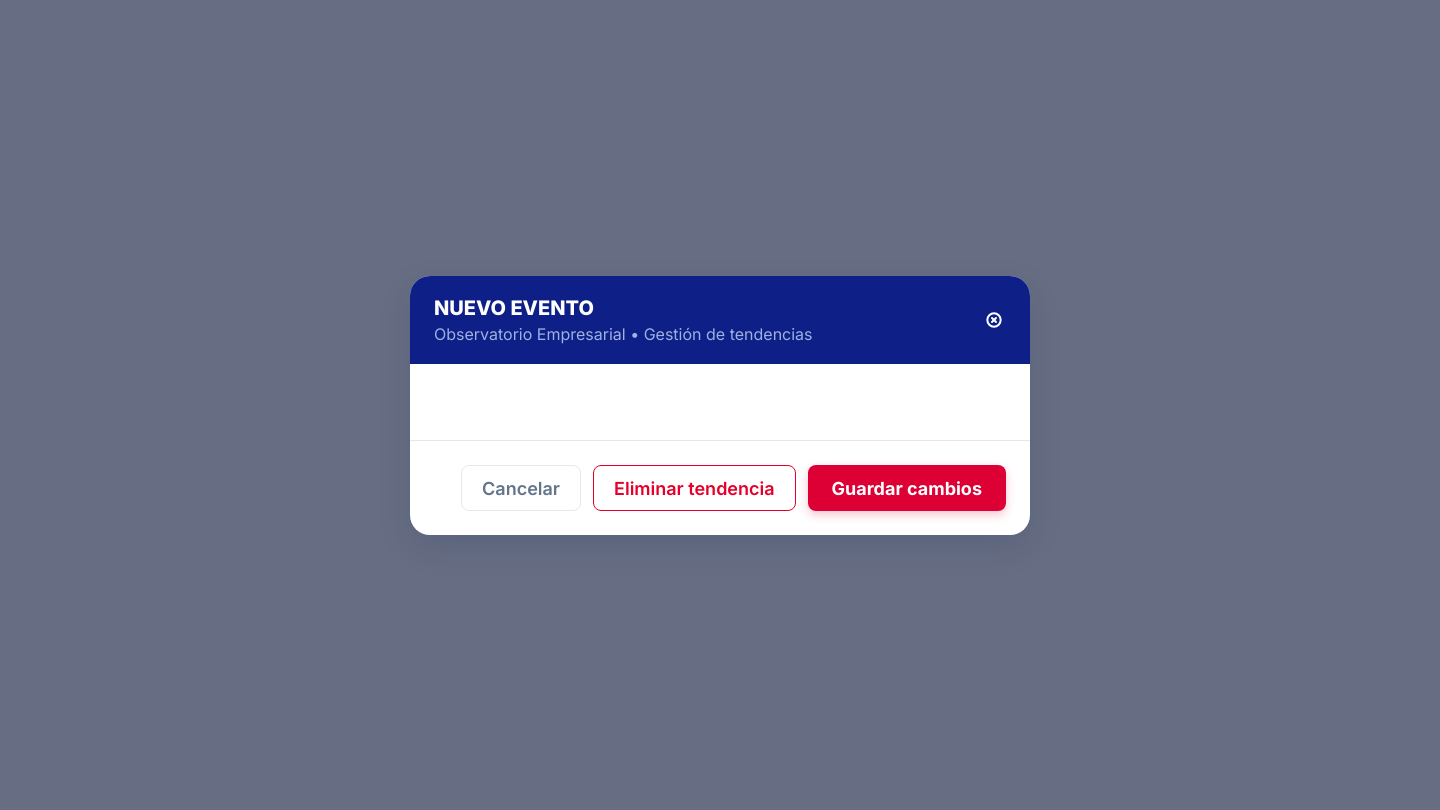
Test: FormularioCrud › elimina con confirmación
This screenshot has width=1440, height=810.
Click the button "Eliminar tendencia" at (694, 488), box [593,464,796,510]
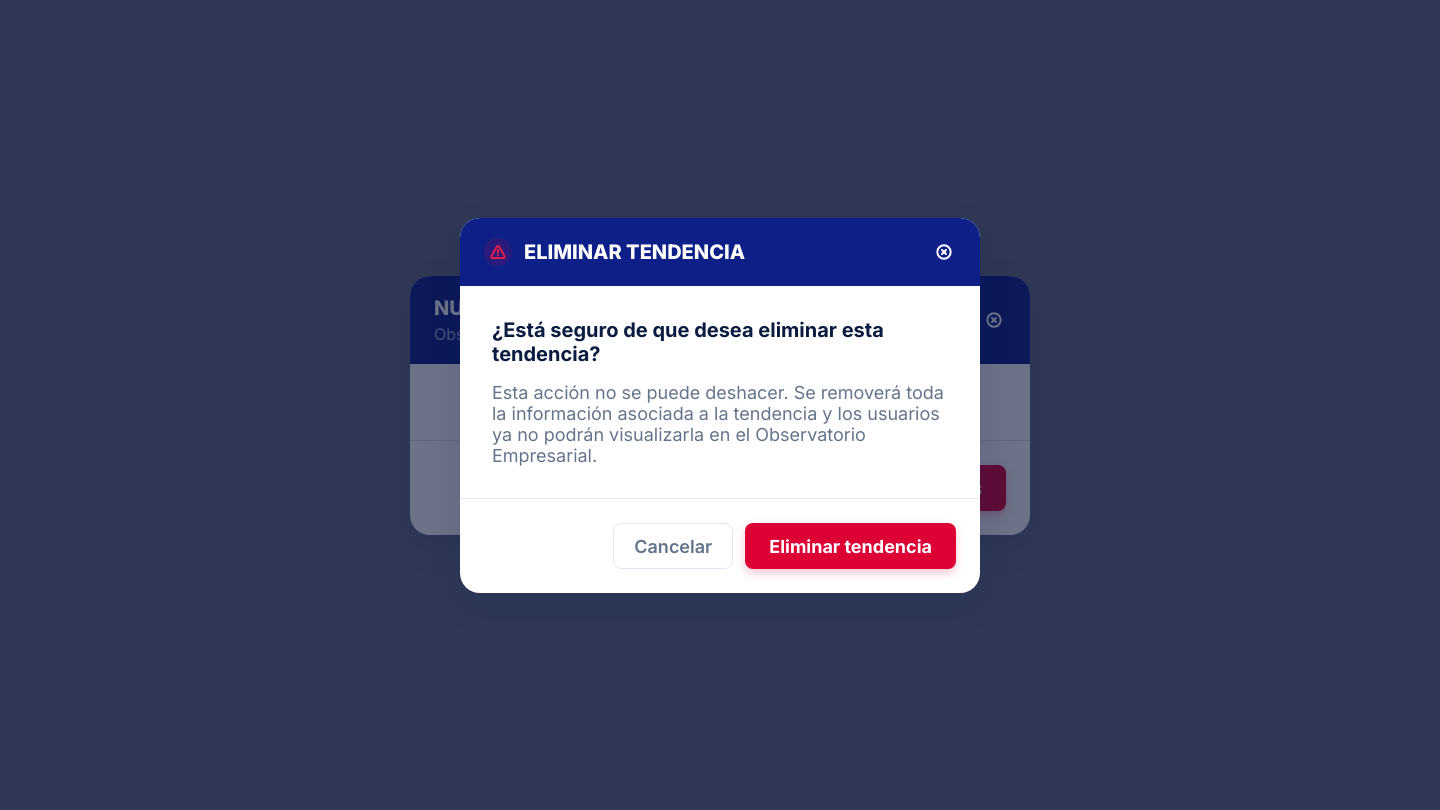
Check: the text "¿Está seguro de que desea eliminar esta tendencia?" is shown, box [492,318,948,366]
Click the button "Eliminar tendencia" at (851, 546), box [745,522,956,568]
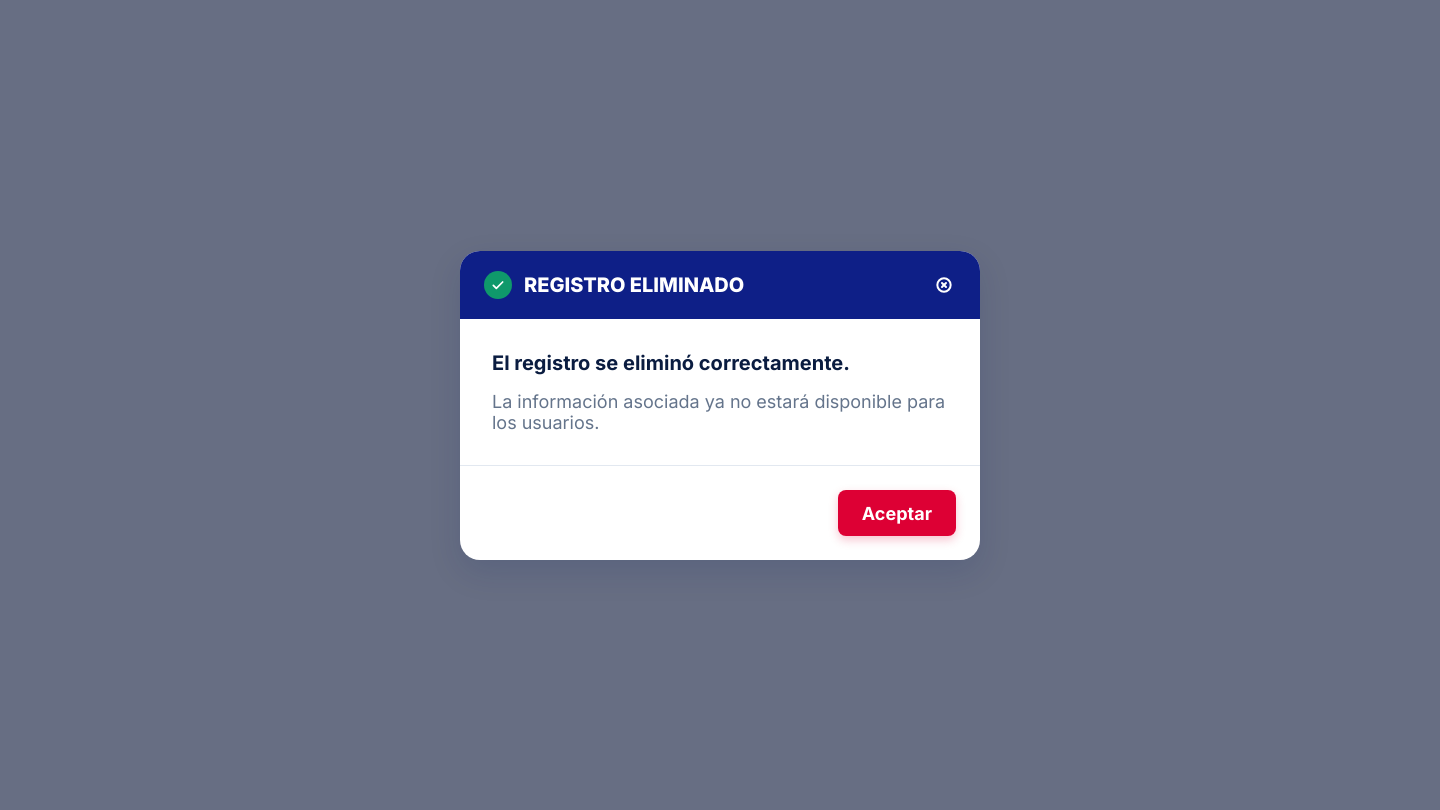
Check: the text "El registro se eliminó correctamente." is shown, box [492,350,850,374]
